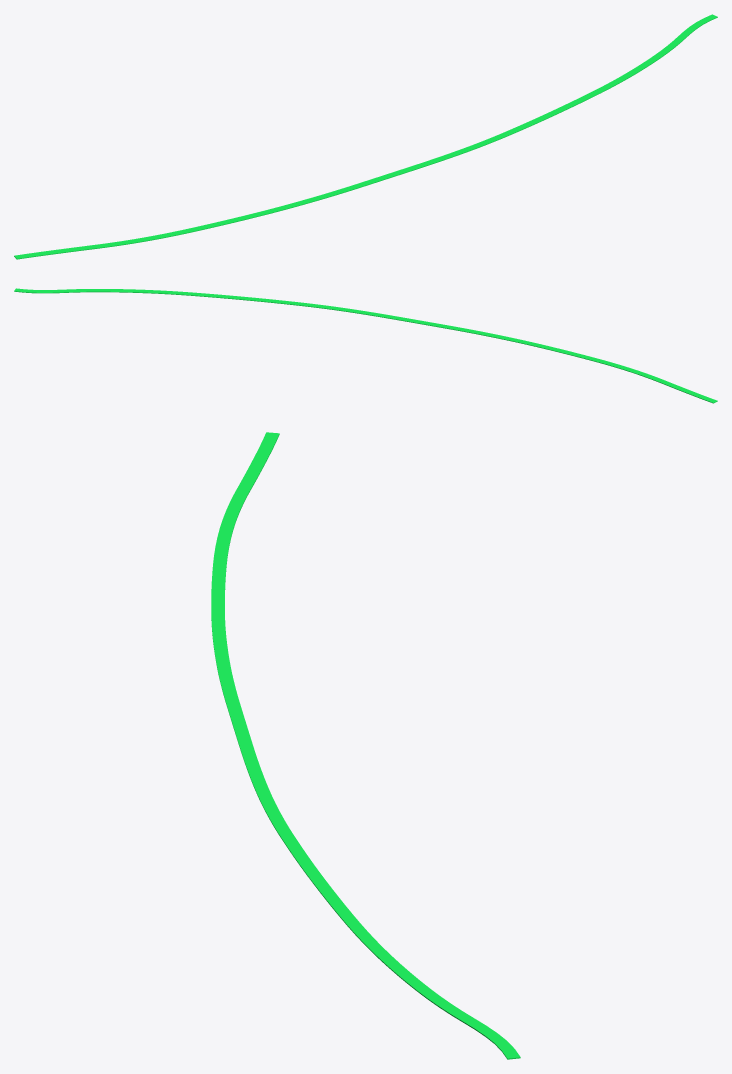
Rendered from MonacoDrs.glb.
3 renders of one model, top to bottom at view 1: azimuth 30°, elevation 25°; view 2: azimuth 150°, elevation 25°; view 3: azimuth 270°, elevation 25°, orthographic. The views are drawn at different scales.
Parts seen in each view (by area): view 1: DrsStrip_1; view 2: DrsStrip_1; view 3: DrsStrip_1.
Part boxes in pixels (<box>): DrsStrip_1: <box>14,14,717,259</box>; DrsStrip_1: <box>14,288,717,403</box>; DrsStrip_1: <box>211,432,520,1059</box>.
Size of the model in its own units: 7.6 by 0.006 by 1.59.
